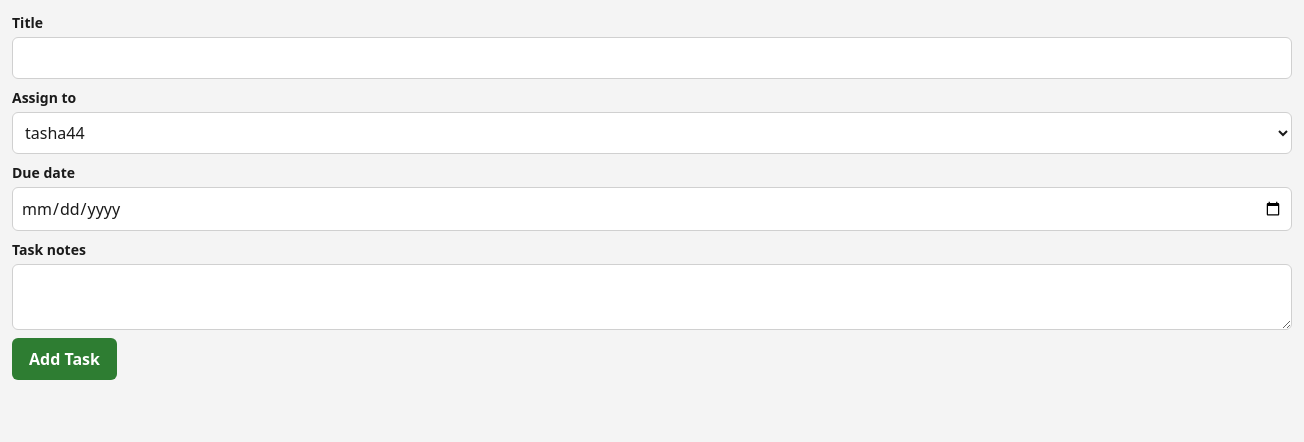
it: TaskForm: failure › shows field errors from the server
In the field labelled "Title": point(652, 58) [12, 37, 1292, 79], type "Follow up call"
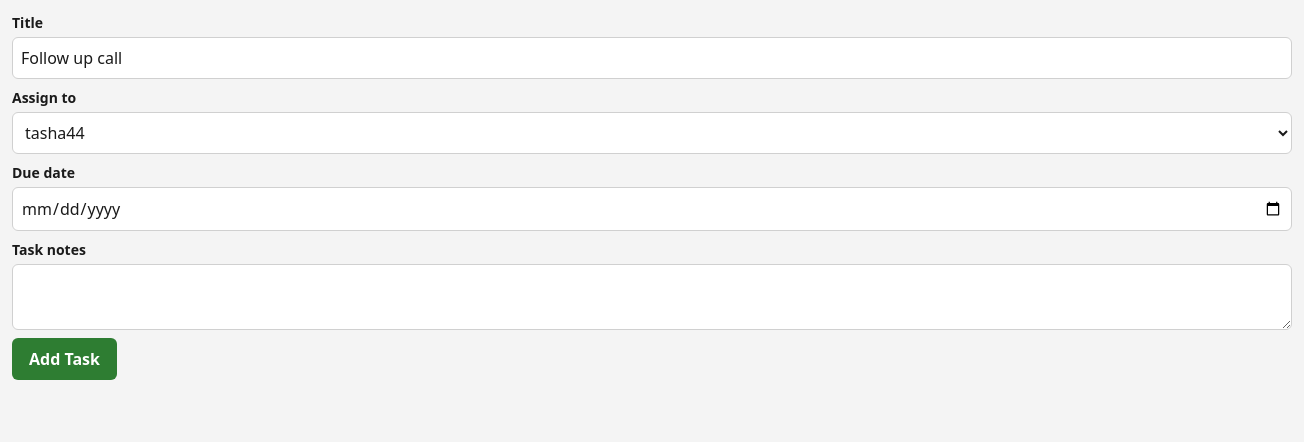
In the date field labelled "Due date": point(652, 209) [12, 187, 1292, 231], type "2026-10-05"
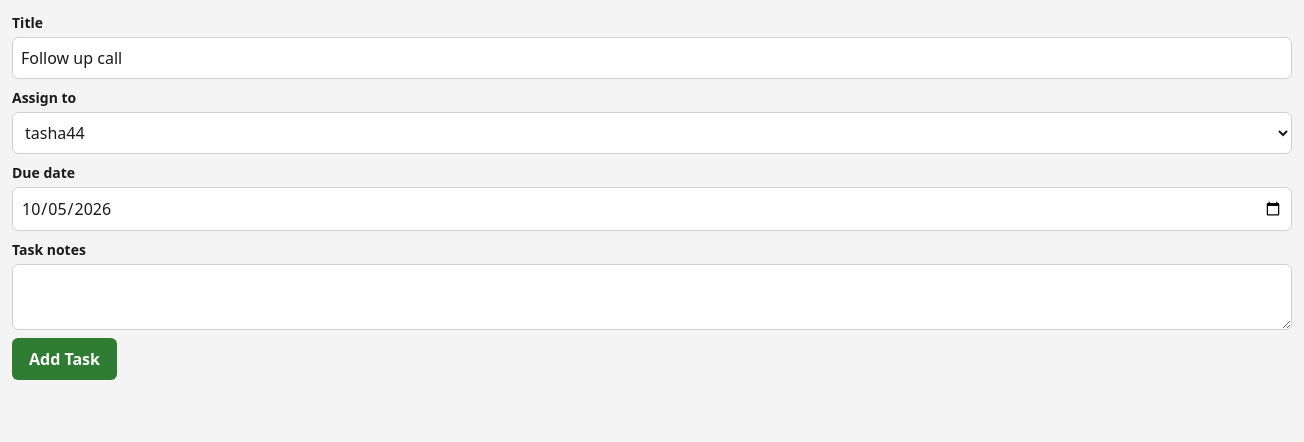
Click the button "Add Task": point(64, 359) [12, 338, 117, 380]
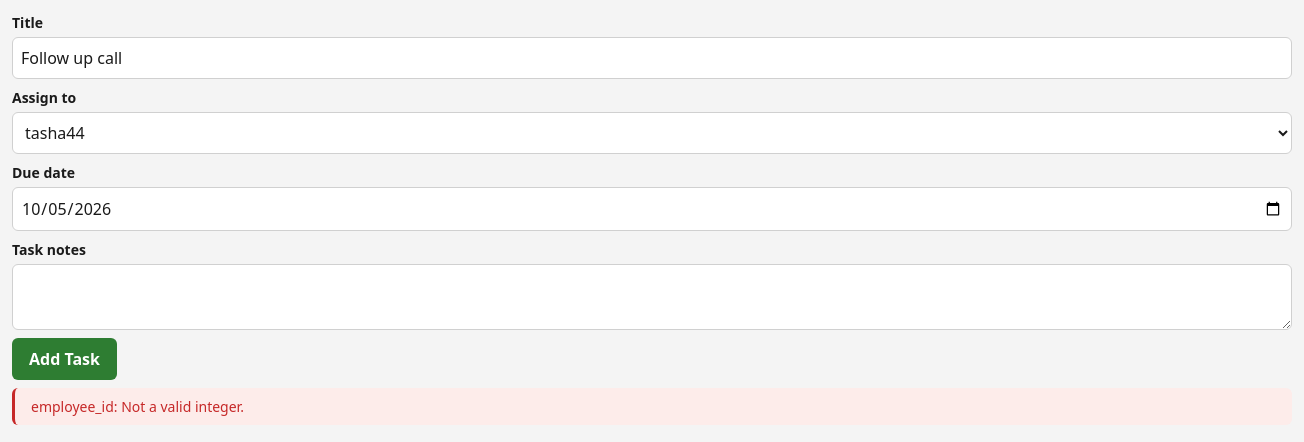
Now the list item "employee_id: Not a valid integer." is shown, box [31, 397, 244, 416]
